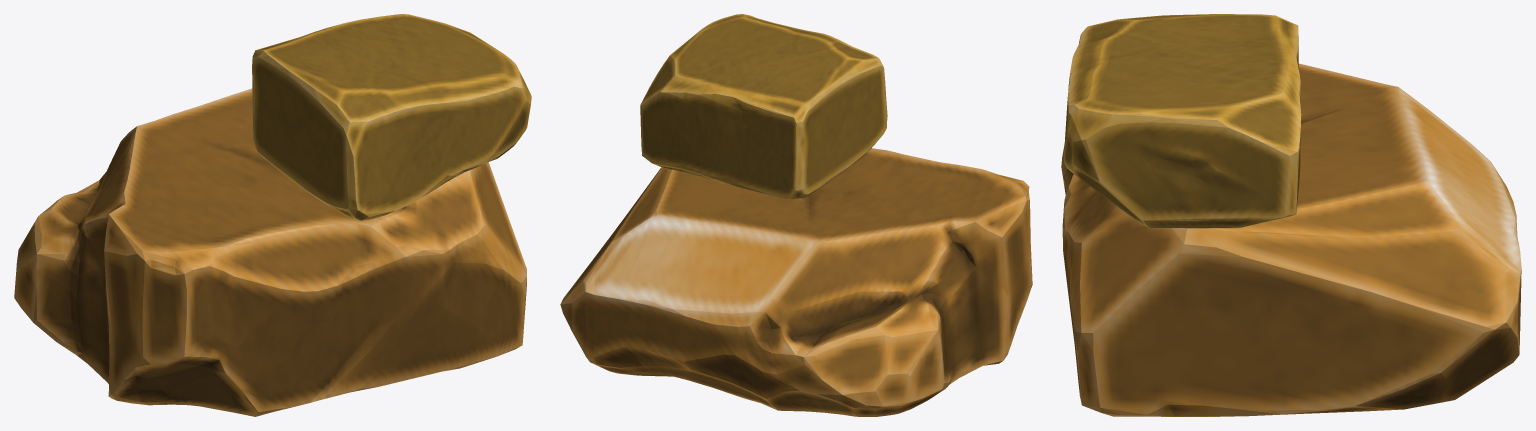
The model's file is Wall_center.fbx.
The picture shows the model from 3 angles, left to right: view 1: azimuth 30°, elevation 25°; view 2: azimuth 150°, elevation 25°; view 3: azimuth 270°, elevation 25°; orthographic projection. The views are drawn at different scales.
Parts seen in each view (by area): view 1: Wall_center001; view 2: Wall_center001; view 3: Wall_center001.
Boxes of the visible parts, <box> form: Wall_center001: <box>14,14,531,416</box>; Wall_center001: <box>560,14,1032,416</box>; Wall_center001: <box>1061,14,1521,416</box>.
Bounding box in the file's own units: 205 × 149 × 197.
